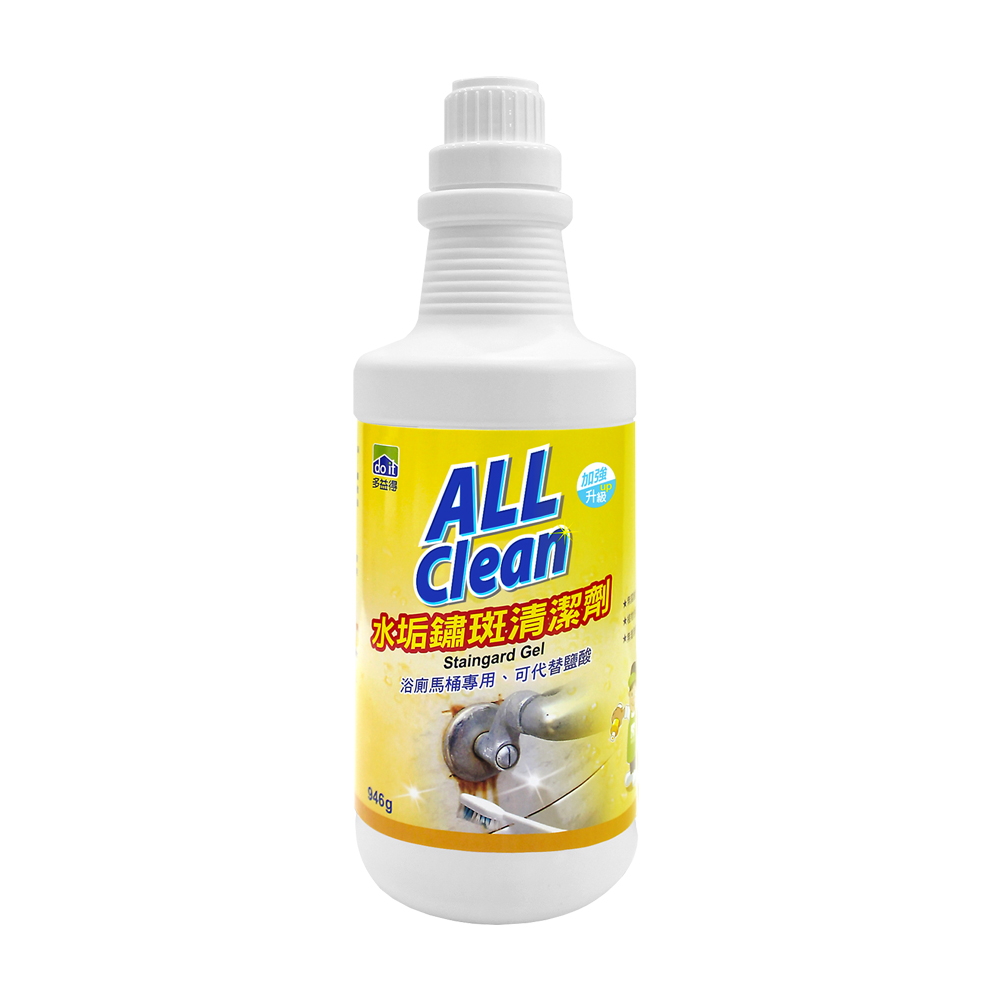cleaner: (326, 66, 667, 935)
